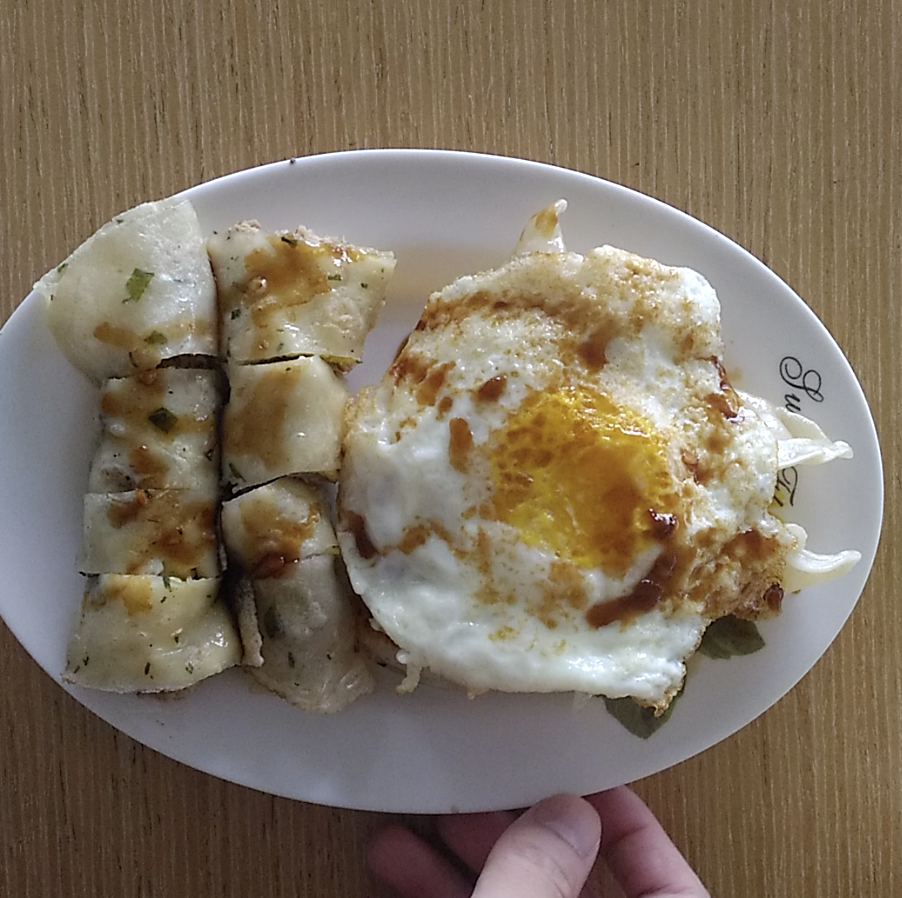fried_eggs: (374, 267, 786, 703)
